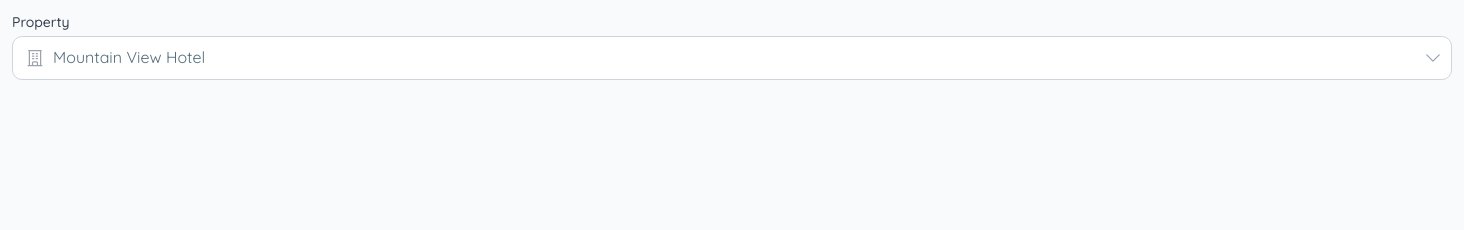
Property Management Integration › PropertySelector Component › should allow property switching
The width and height of the screenshot is (1464, 230).
expect the text "Mountain View Hotel" is shown: met, box [53,45,205,71]
Click the button: (129, 57) [12,36,1452,80]
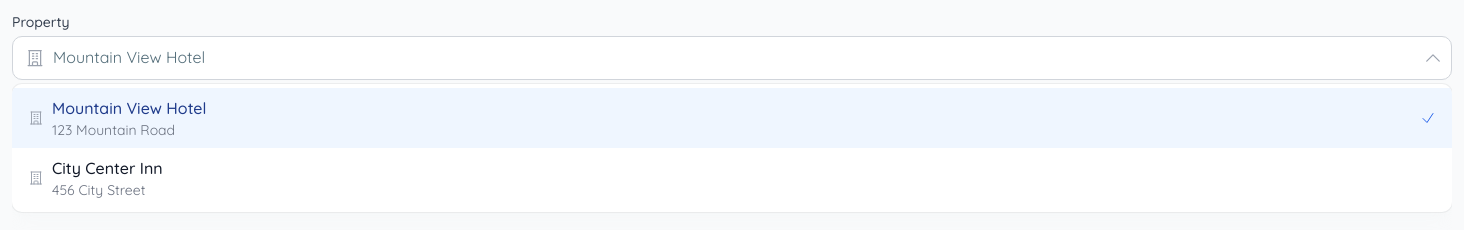
expect the text "City Center Inn" is shown: met
Click the text "City Center Inn": (107, 168) [52,156,163,180]
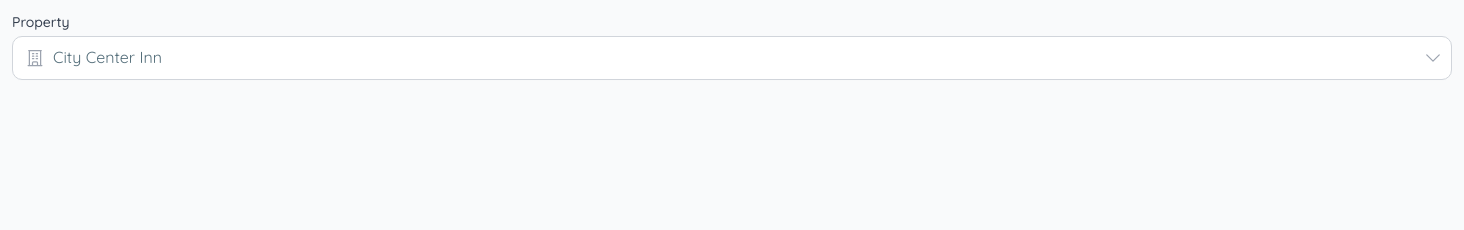
expect the text "City Center Inn" is shown: met, box [53,45,162,71]
